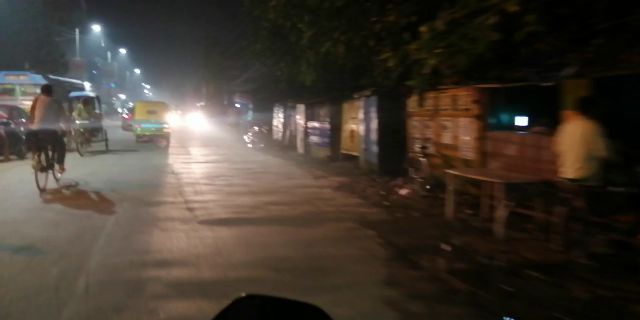Autorickshaw: (121, 96, 178, 144)
